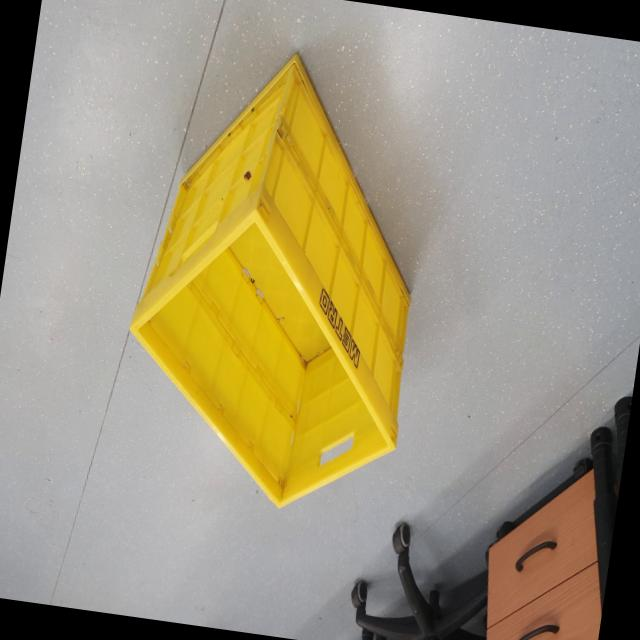box: (102, 32, 462, 534)
